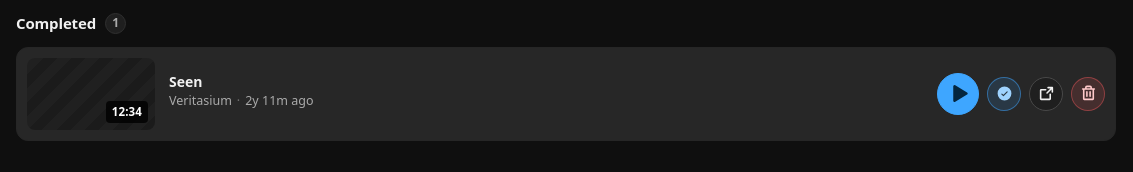
Test case: Downloads row actions › unmarks a watched download without asking anything
Click the button named "Mark as unwatched".
click(1004, 94)  # box [987,76,1021,110]
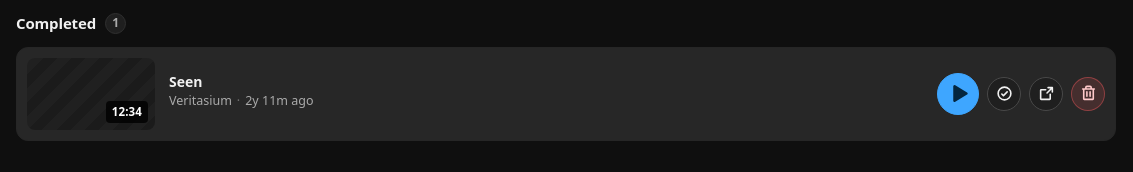
Expected: the button named "Mark as watched" is shown, [987,76,1021,110]
